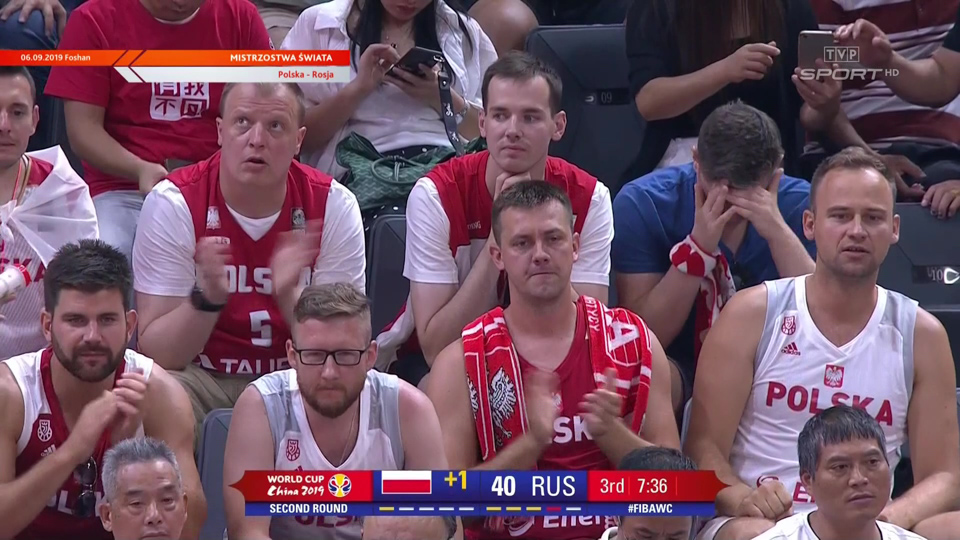Adidas: (779, 337, 801, 357)
